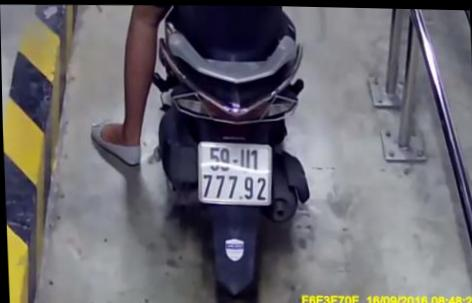LP: (194, 137, 272, 206)
